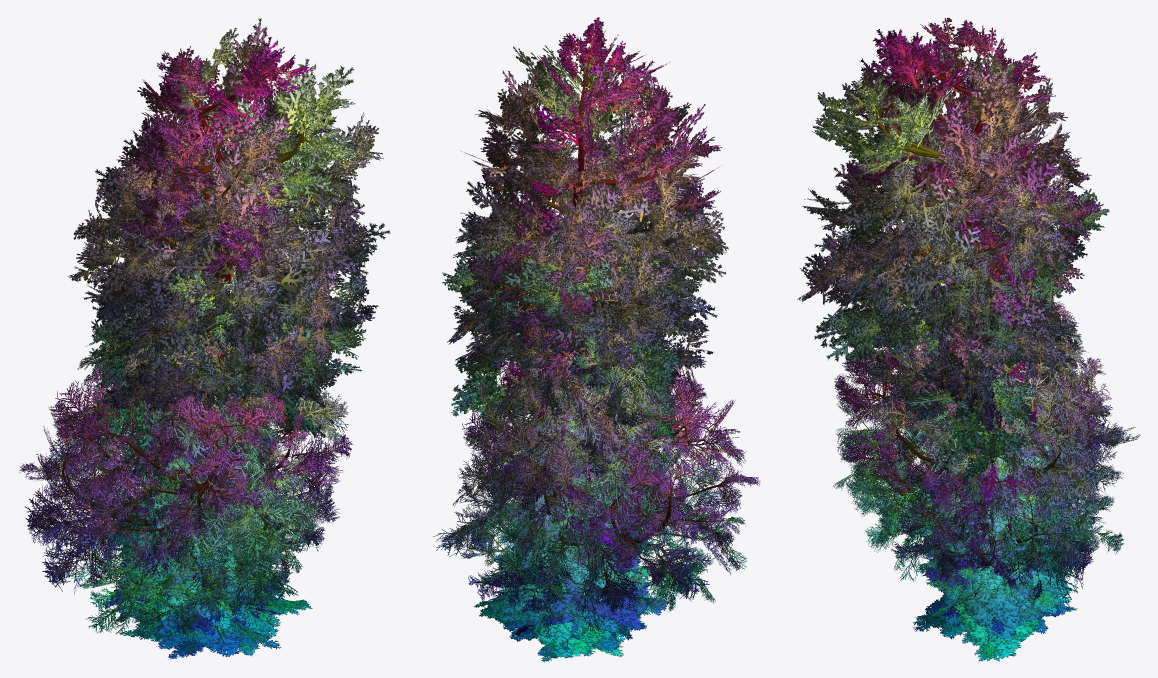
The model's file is trees_w.glb.
3 renders of one model, left to right at view 1: azimuth 30°, elevation 25°; view 2: azimuth 150°, elevation 25°; view 3: azimuth 270°, elevation 25°, orthographic. The views are drawn at different scales.
Parts seen in each view (by area): view 1: w_oak@0|leaf_10, w_pine2@0|leaf_4, w_oak@1|leaf_10, w_pine2@2|leaf_4, w_oak@2|leaf_10, w_pine2@1|leaf_4, w_pine1@0|leaf_4, w_pine1@1|leaf_4, w_pine1@2|leaf_4, w_birch@0|leaf_7, w_birch@1|leaf_7, w_birch@2|leaf_7 (+13 smaller); view 2: w_pine2@0|leaf_4, w_oak@0|leaf_10, w_pine1@0|leaf_4, w_pine2@1|leaf_4, w_oak@1|leaf_10, w_pine2@2|leaf_4, w_oak@2|leaf_10, w_pine1@1|leaf_4, w_birch@0|leaf_7, w_birch@1|leaf_7, w_birch@2|leaf_7, w_pine1@2|leaf_4 (+9 smaller); view 3: w_pine2@0|leaf_4, w_oak@0|leaf_10, w_pine2@2|leaf_4, w_pine2@1|leaf_4, w_oak@1|leaf_10, w_pine1@0|leaf_4, w_oak@2|leaf_10, w_pine1@1|leaf_4, w_pine1@2|leaf_4, w_birch@0|leaf_7, w_birch@1|leaf_7, w_birch@2|leaf_7 (+10 smaller).
Boxes of the visible parts, x1=… form: w_oak@0|leaf_10: x1=19, y1=341, x2=353, y2=637; w_pine2@0|leaf_4: x1=87, y1=31, x2=382, y2=390; w_oak@1|leaf_10: x1=20, y1=339, x2=351, y2=638; w_pine2@2|leaf_4: x1=85, y1=18, x2=390, y2=391; w_oak@2|leaf_10: x1=24, y1=335, x2=348, y2=634; w_pine2@1|leaf_4: x1=86, y1=27, x2=383, y2=385; w_pine1@0|leaf_4: x1=68, y1=110, x2=365, y2=436; w_pine1@1|leaf_4: x1=74, y1=103, x2=364, y2=439; w_pine1@2|leaf_4: x1=83, y1=110, x2=366, y2=455; w_birch@0|leaf_7: x1=67, y1=263, x2=295, y2=611; w_birch@1|leaf_7: x1=64, y1=271, x2=293, y2=606; w_birch@2|leaf_7: x1=61, y1=261, x2=291, y2=625; w_pine2@0|leaf_4: x1=442, y1=17, x2=720, y2=433; w_oak@0|leaf_10: x1=441, y1=328, x2=760, y2=613; w_pine1@0|leaf_4: x1=447, y1=123, x2=728, y2=476; w_pine2@1|leaf_4: x1=453, y1=17, x2=722, y2=420; w_oak@1|leaf_10: x1=437, y1=335, x2=757, y2=612; w_pine2@2|leaf_4: x1=459, y1=34, x2=726, y2=393; w_oak@2|leaf_10: x1=433, y1=340, x2=759, y2=612; w_pine1@1|leaf_4: x1=448, y1=114, x2=728, y2=474; w_birch@0|leaf_7: x1=471, y1=277, x2=692, y2=615; w_birch@1|leaf_7: x1=473, y1=278, x2=693, y2=612; w_birch@2|leaf_7: x1=483, y1=289, x2=691, y2=635; w_pine1@2|leaf_4: x1=451, y1=123, x2=725, y2=471; w_pine2@0|leaf_4: x1=803, y1=18, x2=1109, y2=433; w_oak@0|leaf_10: x1=833, y1=283, x2=1140, y2=600; w_pine2@2|leaf_4: x1=804, y1=29, x2=1101, y2=418; w_pine2@1|leaf_4: x1=802, y1=21, x2=1109, y2=432; w_oak@1|leaf_10: x1=837, y1=302, x2=1137, y2=600; w_pine1@0|leaf_4: x1=797, y1=84, x2=1089, y2=477; w_oak@2|leaf_10: x1=840, y1=326, x2=1135, y2=588; w_pine1@1|leaf_4: x1=800, y1=82, x2=1091, y2=477; w_pine1@2|leaf_4: x1=805, y1=124, x2=1086, y2=474; w_birch@0|leaf_7: x1=893, y1=236, x2=1109, y2=586; w_birch@1|leaf_7: x1=894, y1=236, x2=1110, y2=584; w_birch@2|leaf_7: x1=897, y1=239, x2=1105, y2=611.
Bounding box in the file's own units: 11.04 × 19.62 × 10.44.
Materials: 12 (12 with a texture image).
